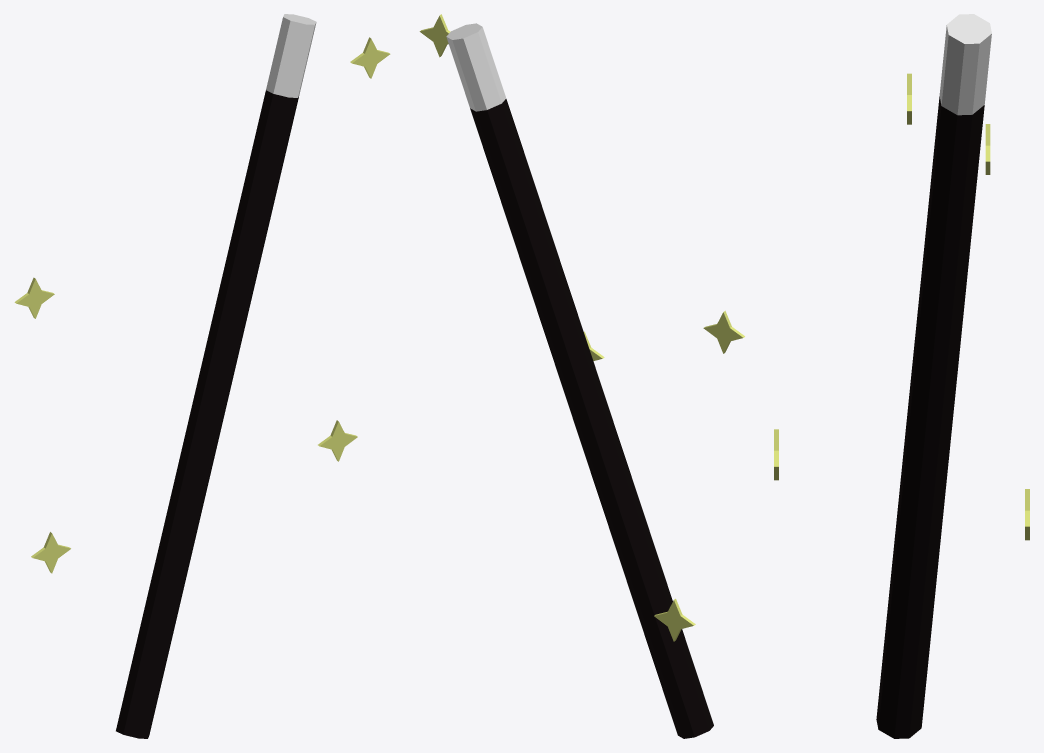
The model's file is varitaCambio.fbx.
3 views of the same model, side by side, from view 1: azimuth 30°, elevation 25°; view 2: azimuth 150°, elevation 25°; view 3: azimuth 270°, elevation 25° (orthographic). The views are drawn at different scales.
Visible parts, largest first — view 1: barita; view 2: barita; view 3: barita.
Boxes of the visible parts, bbox=[...] form: barita: bbox=[14, 14, 390, 738]; barita: bbox=[419, 14, 744, 738]; barita: bbox=[774, 14, 1029, 738].
Size of the model in its own units: 42.38 by 77.41 by 21.67.
